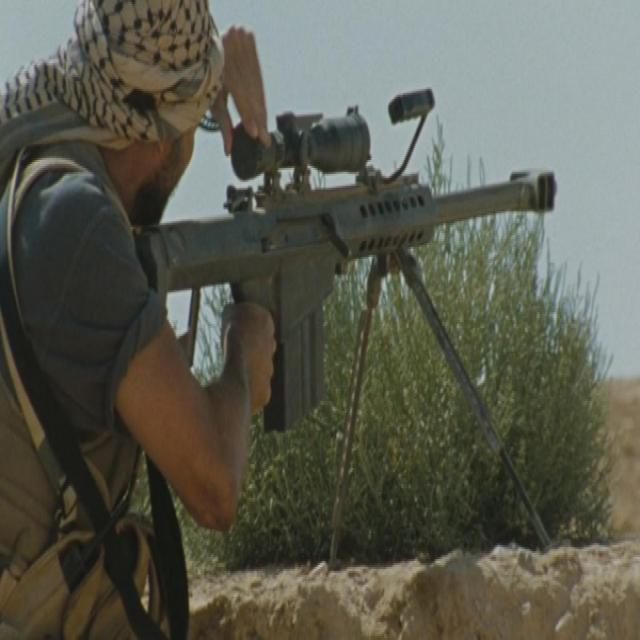rifle: (139, 71, 568, 579)
